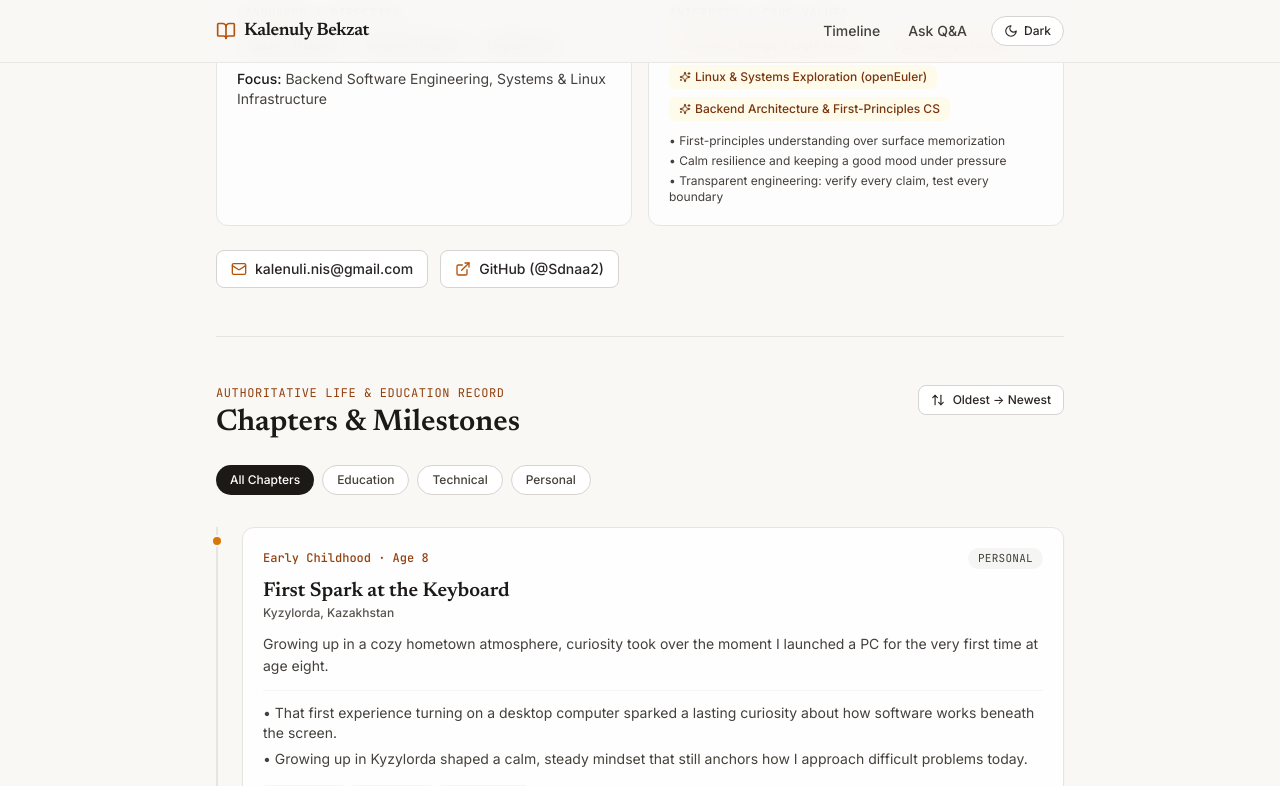
Scenario: App editorial UI & trust boundaries (TC-02, TC-04, TC-05, TC-13) › filters timeline categories, reverses chronological order, and expands/collapses chapter notes (TC-04)
(page scrolled)
Click the button "Oldest → Newest".
click(991, 400)  # box [918,385,1064,415]
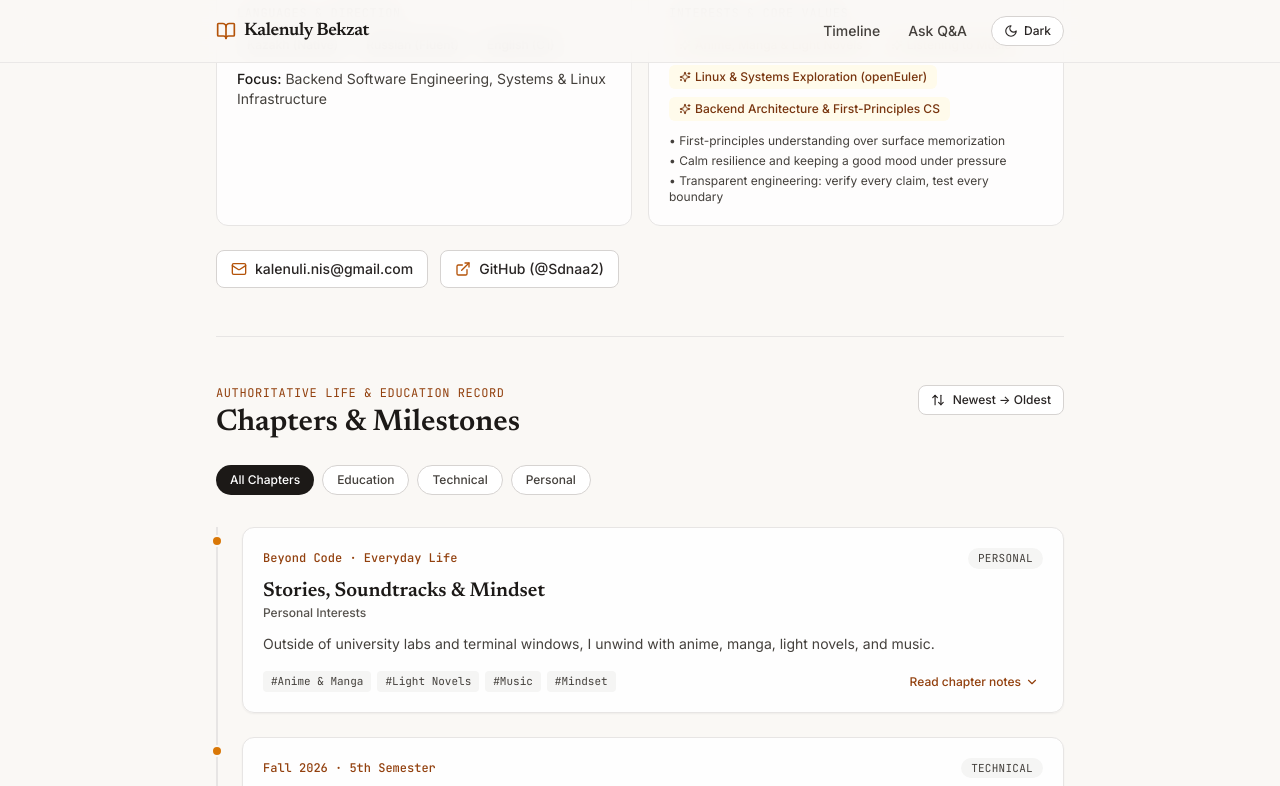
Now the button "Newest → Oldest" is shown, box [918,385,1064,415]
Click the button "Technical".
click(460, 480)  # box [417,465,503,495]
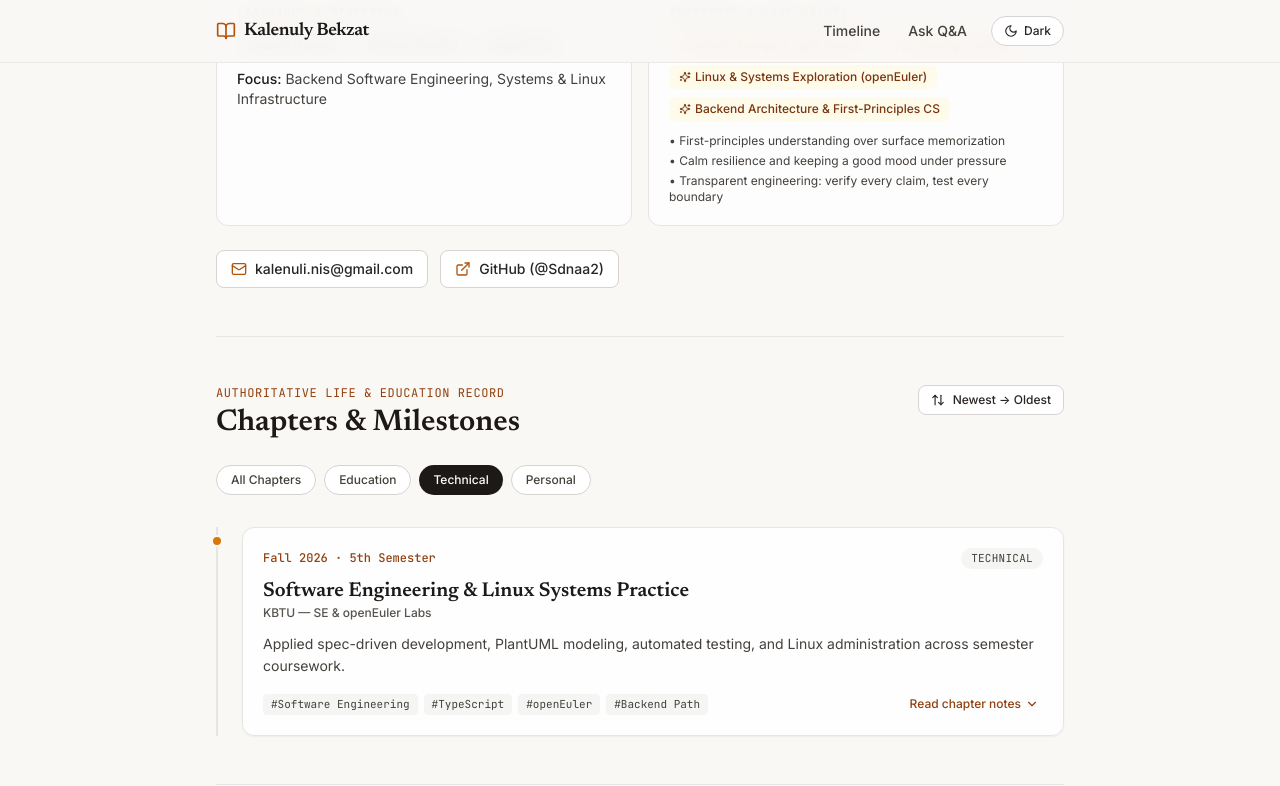
Expected: the heading "Software Engineering & Linux Systems Practice" is shown, [263,580,689,600]
Expected: the heading "First Spark at the Keyboard" is not shown
Click the button "Read chapter notes".
click(974, 704)  # box [906,694,1043,714]
(page scrolled)
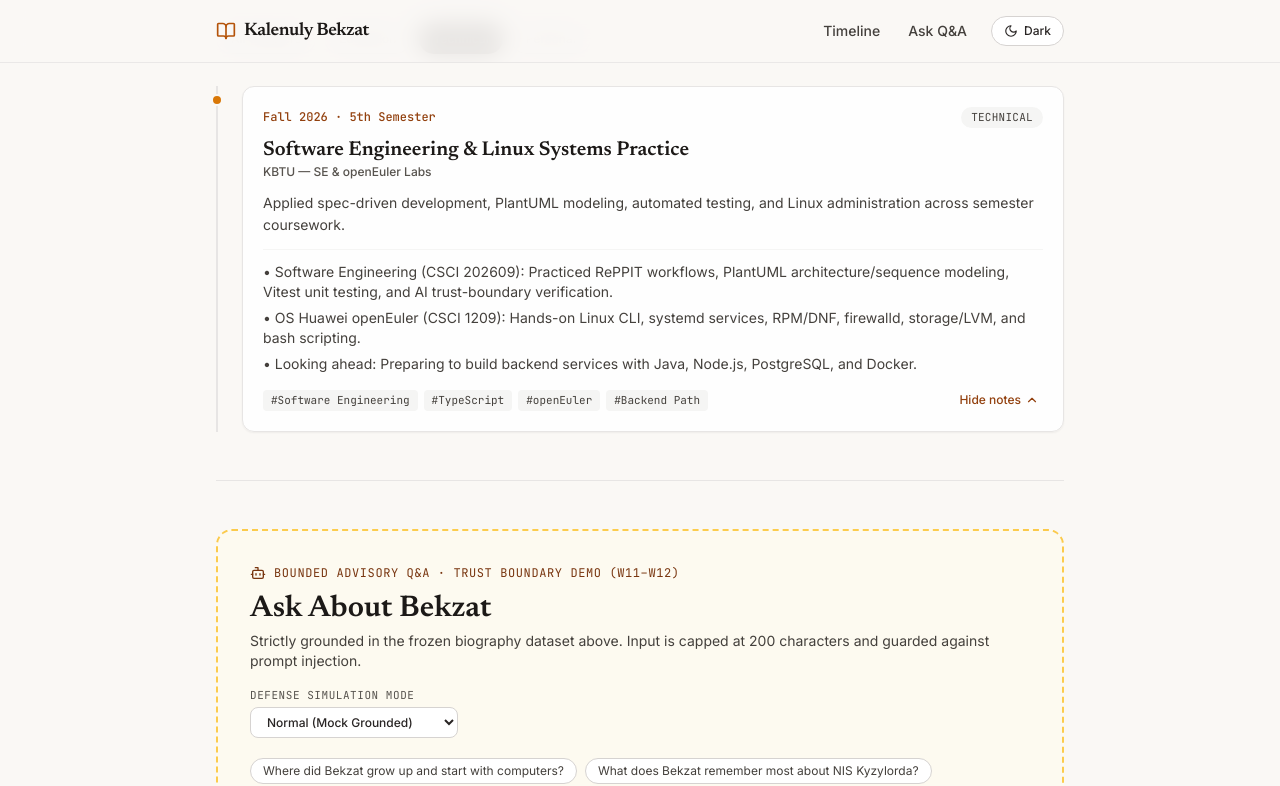
Now the button "Hide notes" is expanded, box [955,390,1043,410]
